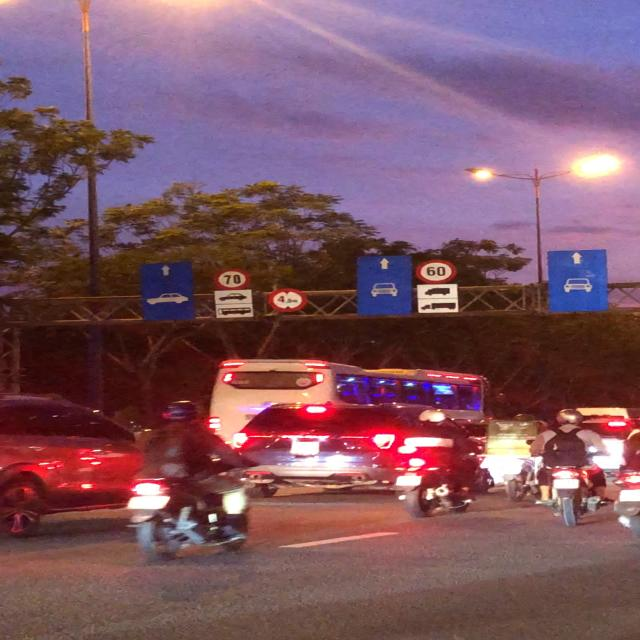Bien bao han che chieu cao: (263, 286, 304, 311)
Bien bao toc do toi da cho phep: (408, 258, 460, 286), (211, 266, 252, 290)
